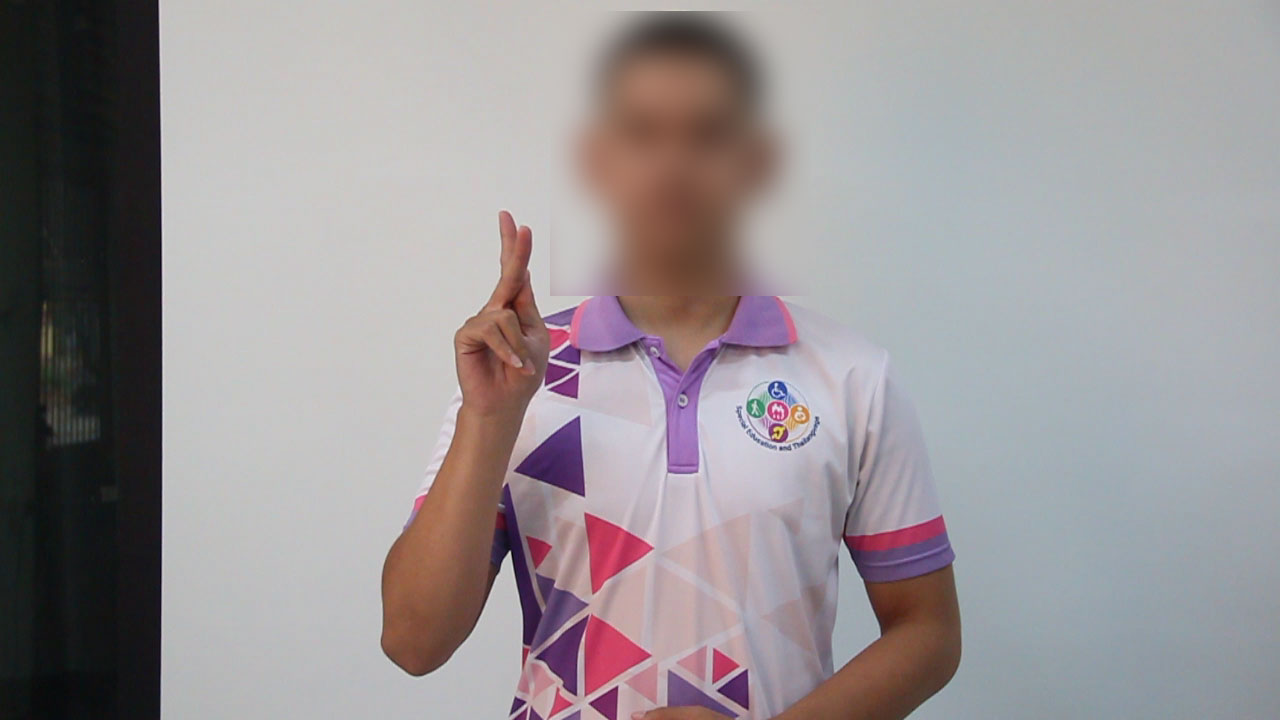ko: (447, 204, 564, 412)
